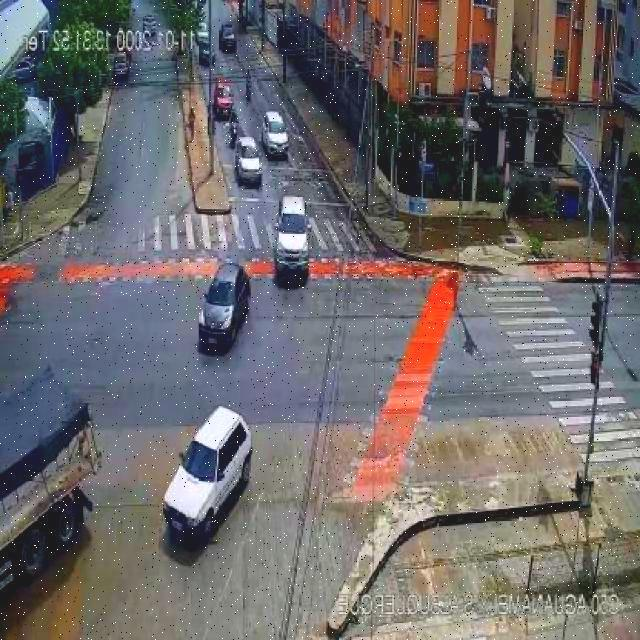Car: (163, 406, 254, 536), (197, 261, 251, 348), (274, 197, 310, 274), (235, 137, 263, 185), (262, 110, 291, 156), (213, 74, 234, 120), (218, 22, 238, 54)
Truck: (0, 364, 101, 583)
